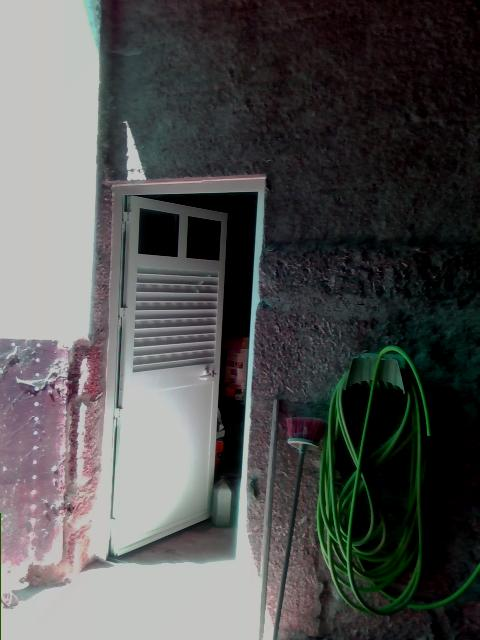semi_door: (95, 174, 263, 564)
